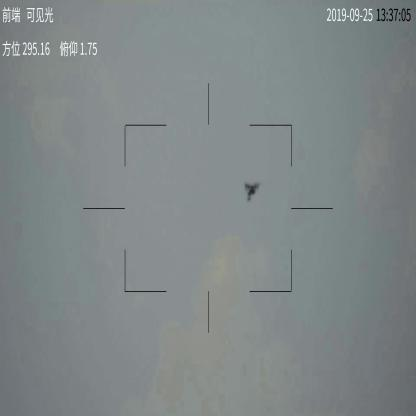uav: (241, 178, 262, 202)
